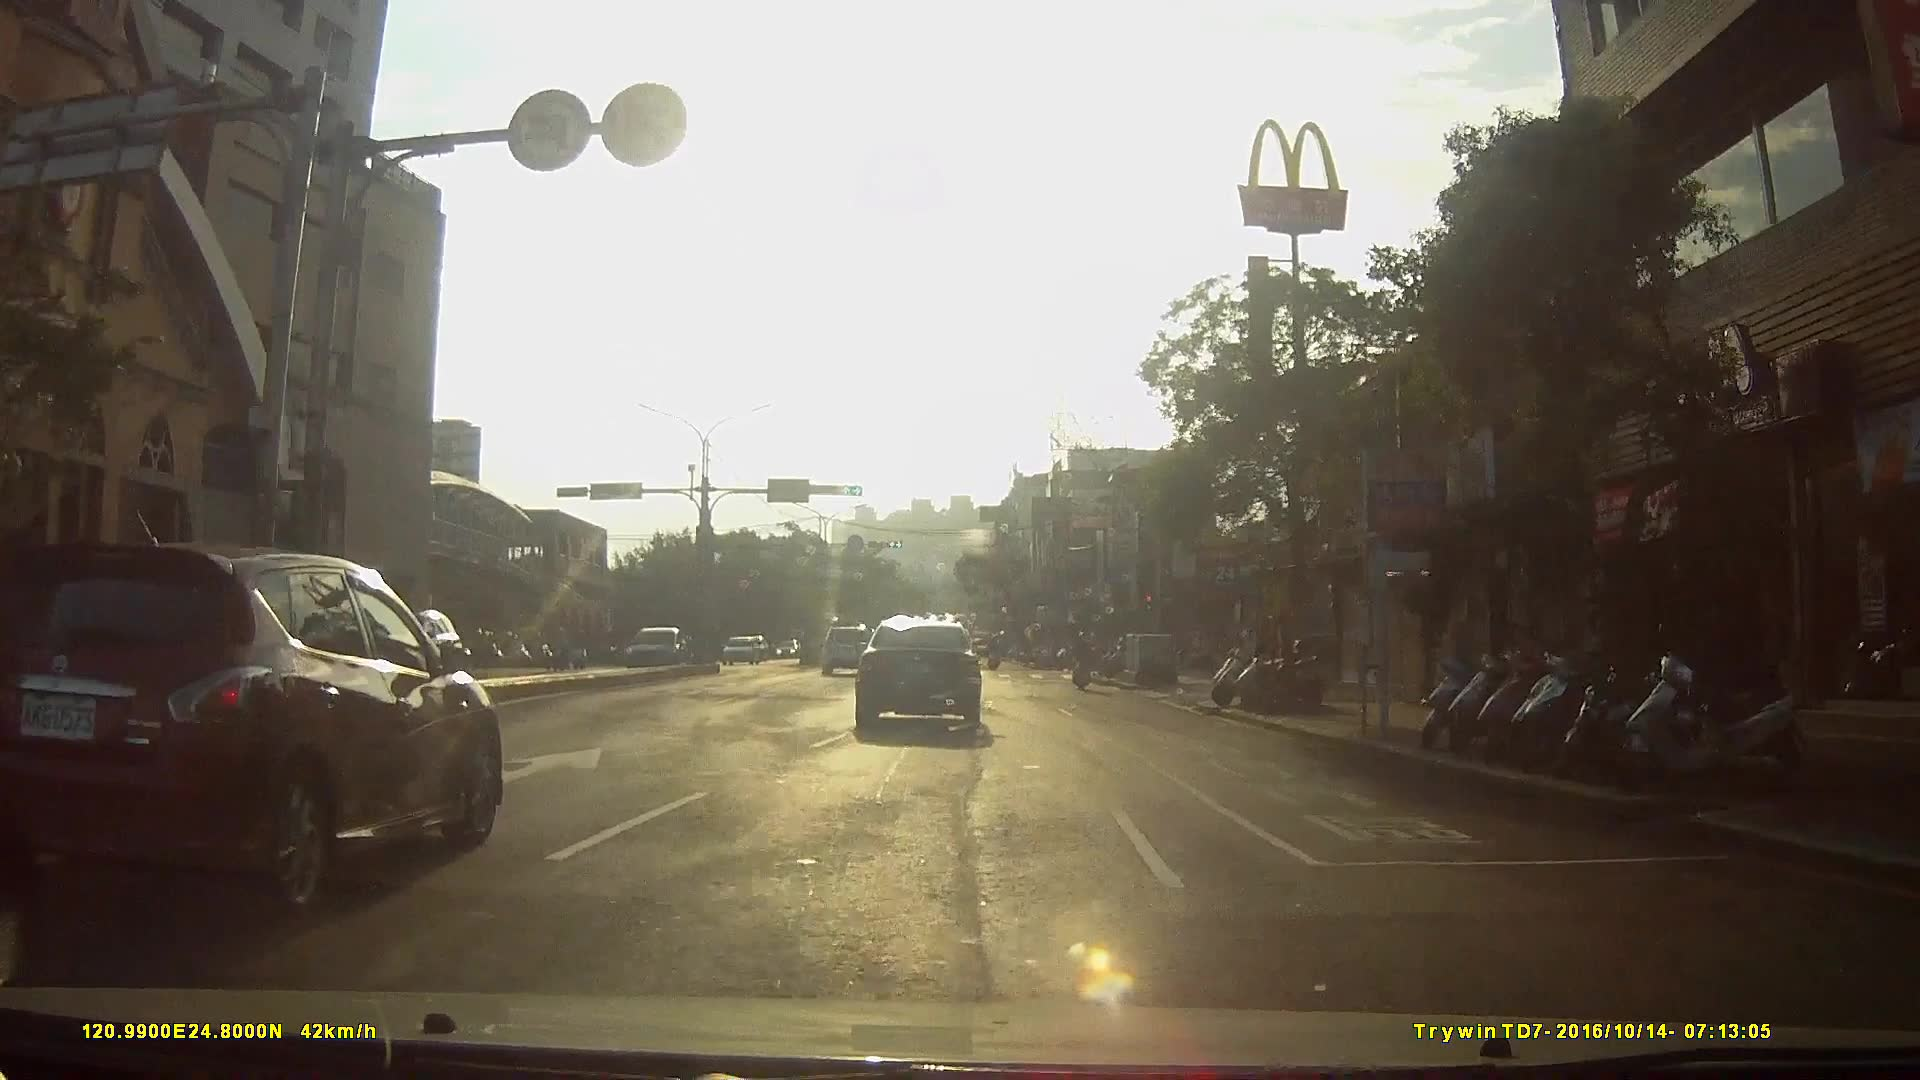rider: (1069, 629, 1094, 695), (985, 638, 1005, 674)
vehicle: (3, 533, 514, 924), (848, 610, 993, 735), (614, 623, 690, 674), (816, 624, 873, 679), (721, 635, 763, 667)
